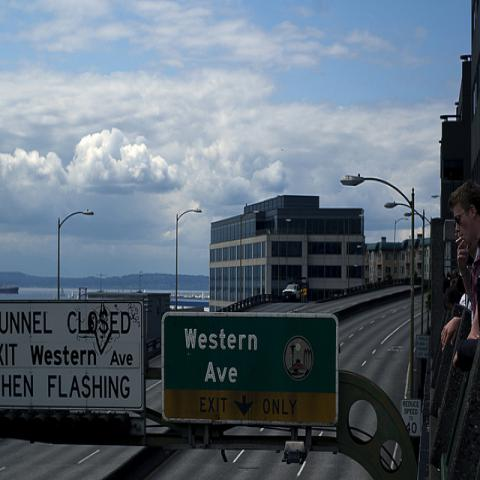truck: (282, 277, 309, 303)
